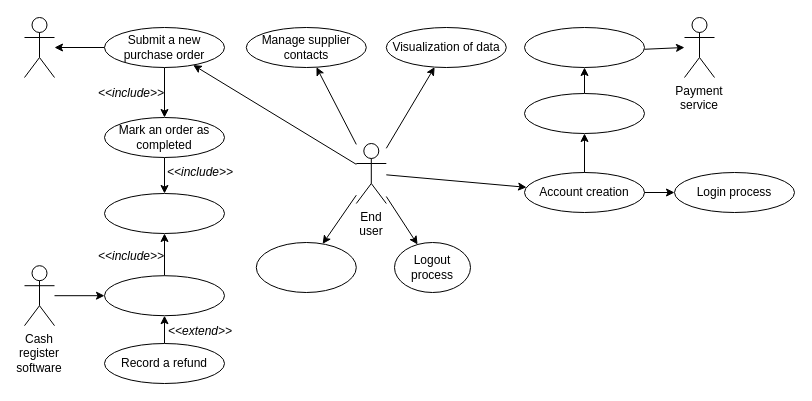
This 812x401 diagram has some shape labels left out. Each missing label, with the box of its shape:
Account activation: (524, 92, 644, 134)
Payment of the subscription: (524, 26, 644, 68)
Record a new sale: (104, 275, 224, 316)
Register a new product: (255, 242, 356, 292)
Supplier: (24, 16, 54, 78)
Update inventory: (104, 192, 224, 234)
